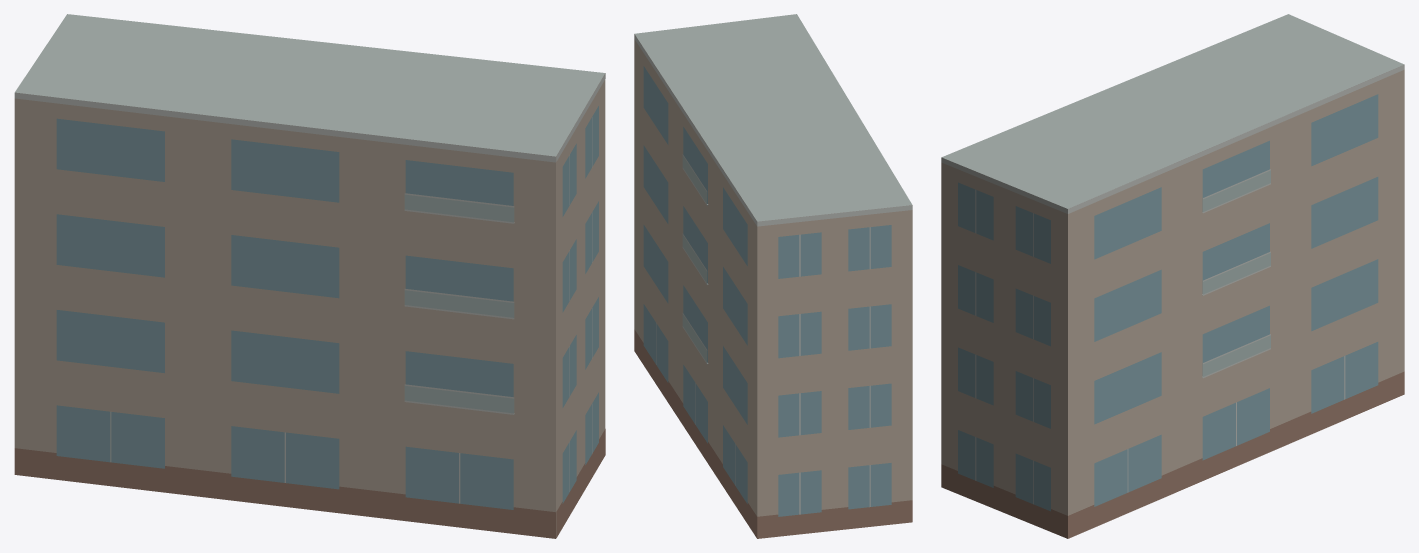
The model's file is survey-upis-32500487.glb.
The picture shows the model from 3 angles, left to right: view 1: azimuth 30°, elevation 25°; view 2: azimuth 150°, elevation 25°; view 3: azimuth 270°, elevation 25°; orthographic projection. The views are drawn at different scales.
Visible parts, largest first — view 1: survey-upis-32500487.tmp; view 2: survey-upis-32500487.tmp; view 3: survey-upis-32500487.tmp.
Boxes of the visible parts, x1,y1,x2,y2 form: survey-upis-32500487.tmp: [14, 14, 605, 538]; survey-upis-32500487.tmp: [634, 14, 912, 538]; survey-upis-32500487.tmp: [941, 14, 1404, 538].
Bounding box in the file's own units: 19.91 × 15.7 × 19.98.
